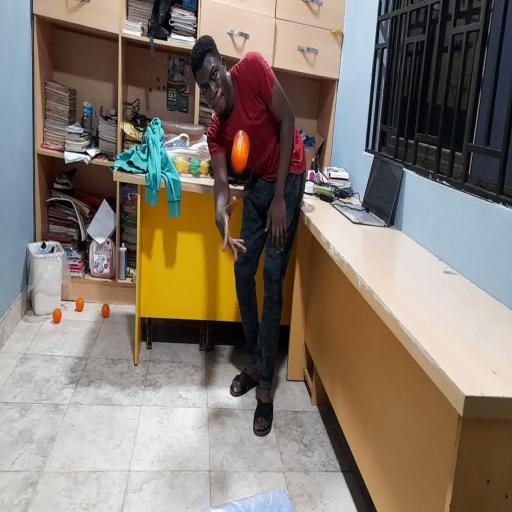plastic-ball: (231, 130, 249, 173)
